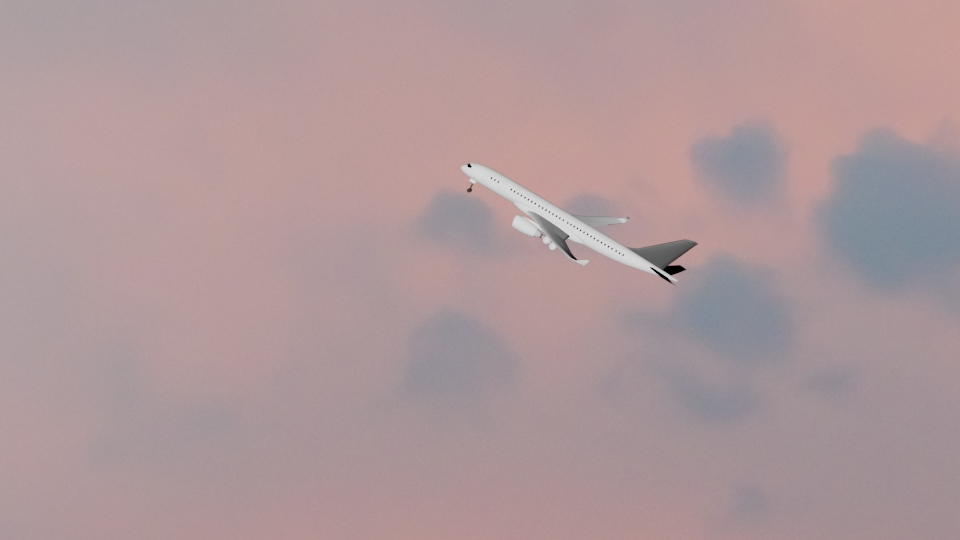plane: (457, 162, 697, 290)
